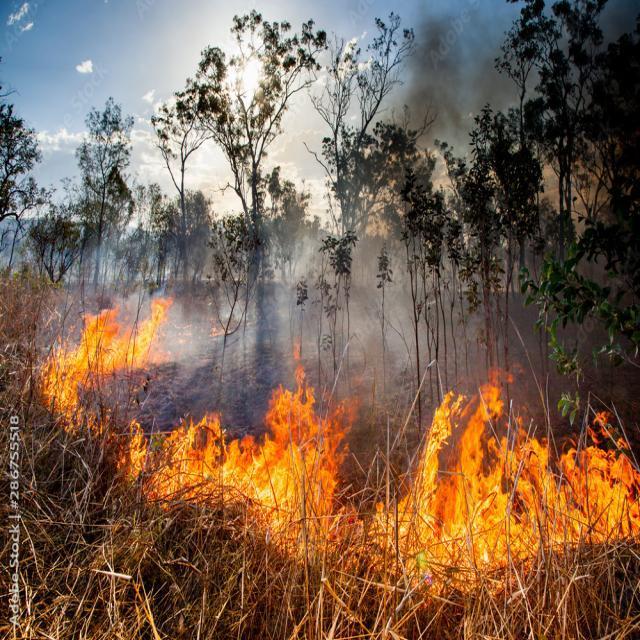Fire: (399, 374, 640, 562), (189, 411, 365, 588), (43, 295, 163, 418), (145, 422, 213, 492), (270, 358, 326, 434), (96, 422, 150, 480), (128, 422, 146, 482)
Smoke: (349, 48, 564, 294)
